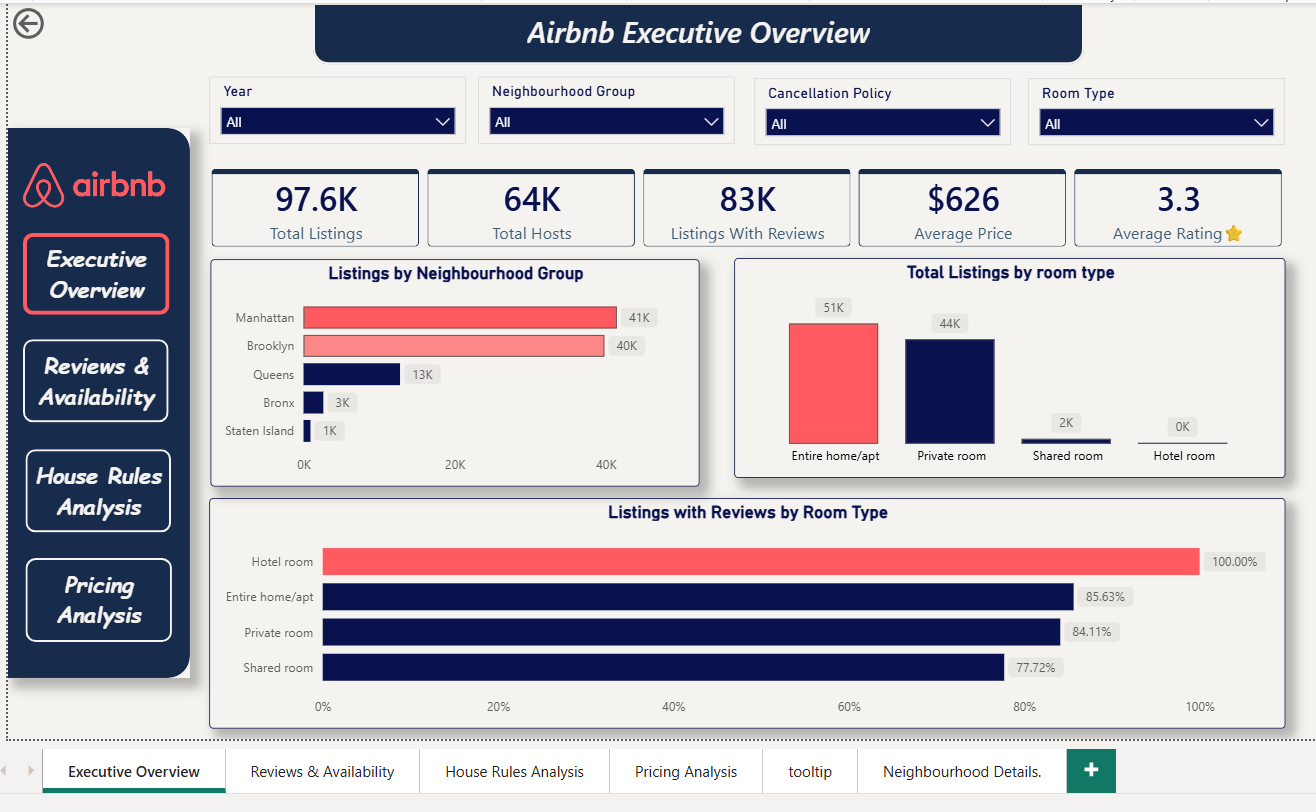

What the dashboard file says about the page in this screenshot:
{"tool":"powerbi","page":{"name":"Executive Overview","canvas":[1280,720],"ordinal":0},"visuals":[{"type":"slicer","fields":{"Values":["airbnb_cleaned.room type"]},"box":[998,72.6,251.6,65.8],"z":0,"group":"g1"},{"type":"clusteredBarChart","title":" Listings by Neighbourhood Group","fields":{"Category":["airbnb_cleaned.neighbourhood group"],"Y":["Measures_table.Total Listings"]},"box":[197.5,251.2,478.8,222.5],"z":0},{"type":"slicer","fields":{"Values":["airbnb_cleaned.cancellation_policy"]},"box":[730.5,72.6,251.6,65.8],"z":1000,"group":"g1"},{"type":"clusteredColumnChart","fields":{"Category":["airbnb_cleaned.room type"],"Y":["Measures_table.Total Listings"]},"box":[709.9,249.4,539.5,214.8],"z":1000},{"type":"actionButton","box":[298.6,0,754.3,60],"z":2000},{"type":"slicer","fields":{"Values":["airbnb_cleaned.neighbourhood group"]},"box":[460,71.9,251.6,65.8],"z":2000,"group":"g1"},{"type":"slicer","fields":{"Values":["Calendar.Year"]},"box":[197.1,71.9,251.6,65.8],"z":3000,"group":"g1"},{"type":"cardVisual","fields":{"Data":["Measures_table.Total Listings","Measures_table.Total Hosts","Measures_table.Listings With Reviews","Measures_table.Average Price","Measures_table.Average Rating"]},"box":[187.5,150,1071.2,100],"z":3000},{"type":"clusteredBarChart","title":"Listings with Reviews by Room Type","fields":{"Category":["airbnb_cleaned.room type"],"Y":["Measures_table.Listings With Reviews %"]},"box":[197.1,484.3,1052.9,225.7],"z":4000},{"type":"group","id":"g1","title":"Group 2","box":[197.1,71.9,1052.5,66.2],"z":5000},{"type":"shape","box":[0,122.5,178,538],"z":6000,"group":"g2"},{"type":"group","id":"g2","title":"Group 1","box":[0,122.5,178,538],"z":6000},{"type":"image","box":[14.4,147.5,139.6,63.2],"z":7000,"group":"g2"},{"type":"actionButton","box":[14.9,225.5,143.3,80],"z":7000},{"type":"actionButton","box":[17.5,542.5,143.3,82.2],"z":8000},{"type":"actionButton","box":[15,328.8,142.5,81.2],"z":9000},{"type":"actionButton","box":[17.5,436.2,142.5,81.2],"z":10000},{"type":"actionButton","box":[0,0,100,40],"z":11000}]}

Visuals, with their boxes on the page's 1280x720 design canvas (x1, y1, x2, y2). These are canvas units, not pixel positions in the 1316x812 screenshot, which may show the page scaled, cropped or inside an application window:
slicer - airbnb_cleaned.room type: 998 73 1250 138
" Listings by Neighbourhood Group" clusteredBarChart: 198 251 676 474
slicer - airbnb_cleaned.cancellation_policy: 730 73 982 138
clusteredColumnChart - airbnb_cleaned.room type x Measures_table.Total Listings: 710 249 1249 464
actionButton: 299 0 1053 60
slicer - airbnb_cleaned.neighbourhood group: 460 72 712 138
slicer - Calendar.Year: 197 72 449 138
cardVisual - Measures_table.Total Listings x Measures_table.Total Hosts: 188 150 1259 250
"Listings with Reviews by Room Type" clusteredBarChart: 197 484 1250 710
"Group 2" group: 197 72 1250 138
shape: 0 122 178 660
"Group 1" group: 0 122 178 660
image: 14 148 154 211
actionButton: 15 226 158 306
actionButton: 18 542 161 625
actionButton: 15 329 158 410
actionButton: 18 436 160 517
actionButton: 0 0 100 40
